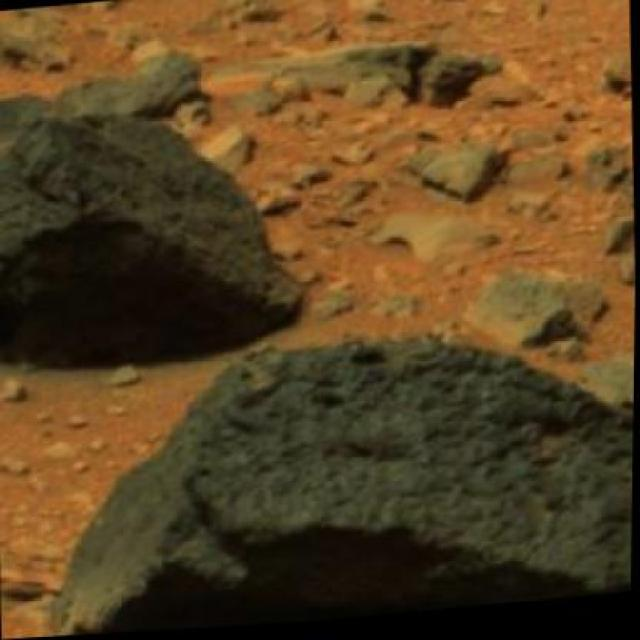rock: (39, 312, 635, 636), (0, 64, 322, 384), (463, 265, 620, 360), (402, 130, 522, 212), (38, 0, 297, 28), (583, 354, 634, 466)
